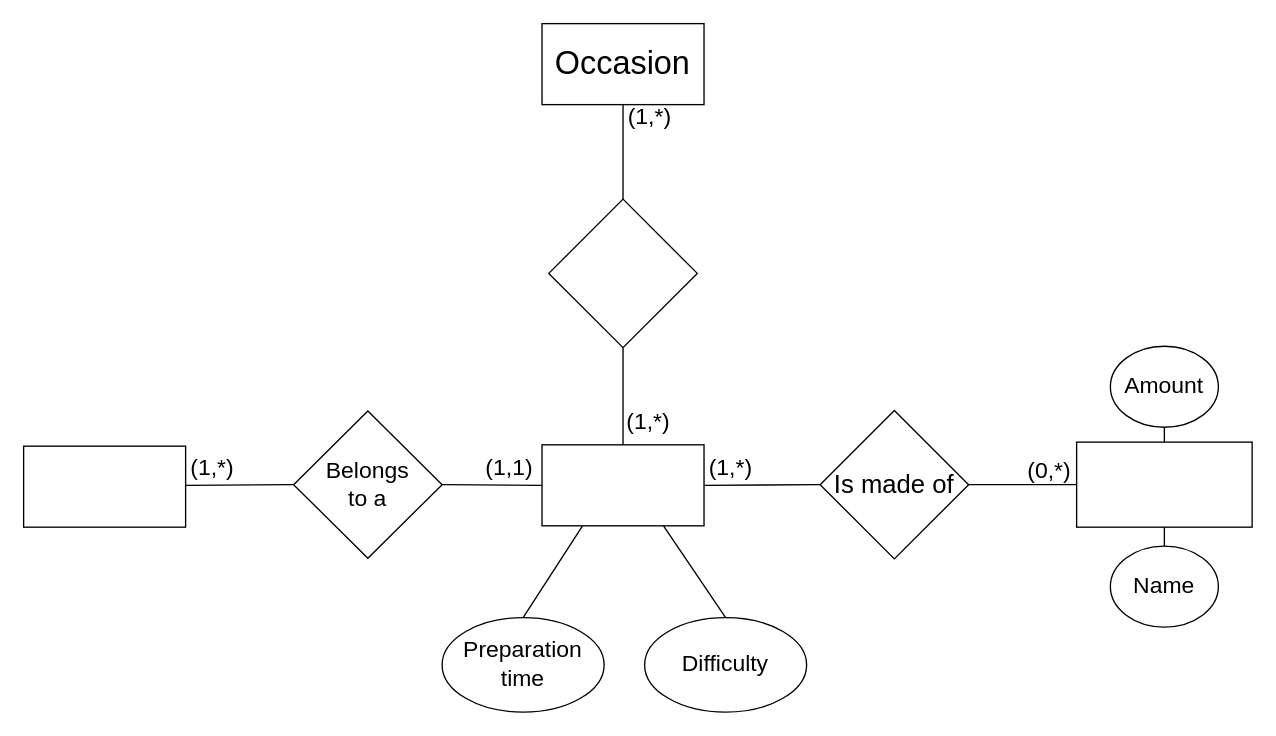
The diagram is 1276 pixels wide and 736 high, and some of its shapes have lost their labels. The shapes that lost their labels are listed below. From the top down, each one's centre as x and y in pixels, then its label:
At pixel 622 273: "Is suitable for".
At pixel 104 486: "Category".
At pixel 622 484: "Dish".
At pixel 1163 484: "Ingredient".
